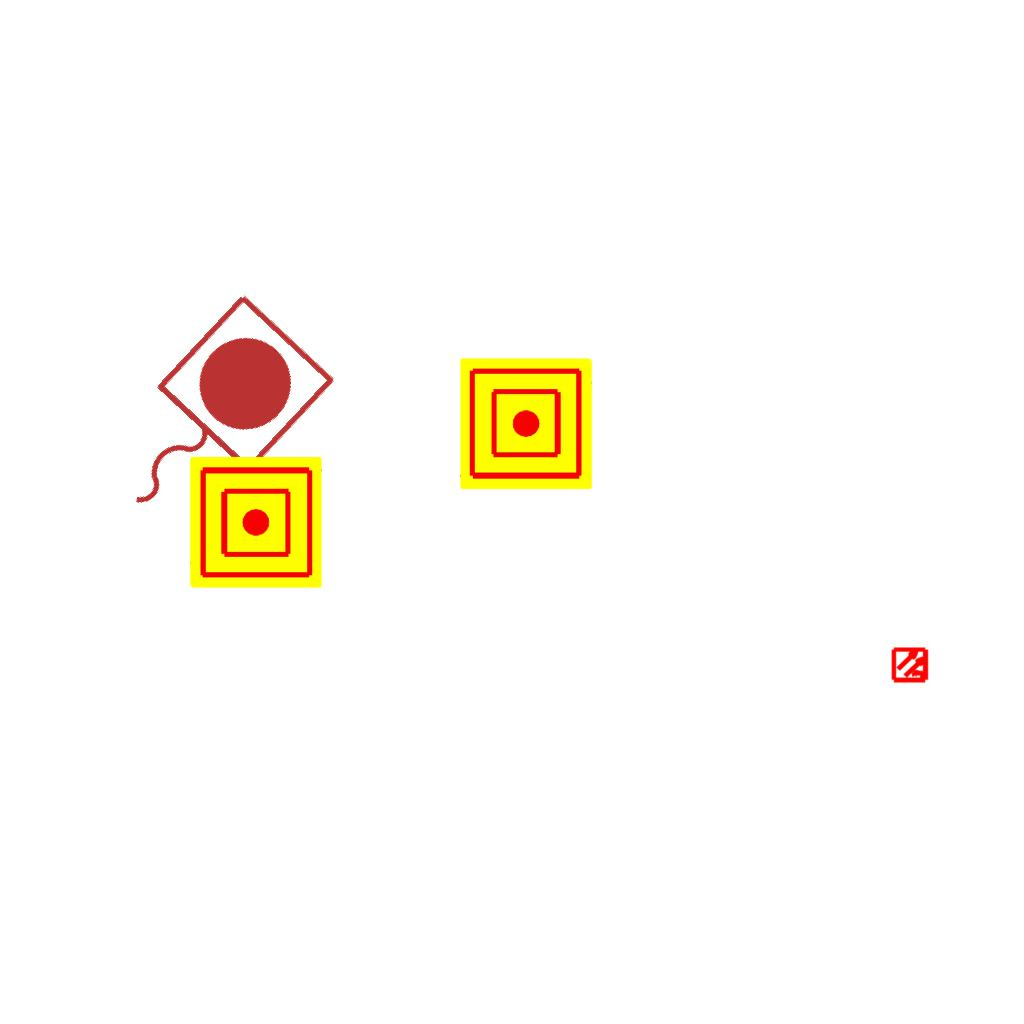NAM-Nichtautomatischer_Melder: (460, 358, 592, 490), (190, 456, 322, 588)
OT_Multisensormelder_(Kombination_RMO_WMD): (883, 637, 939, 693)
Zugtaster: (74, 280, 346, 558)
